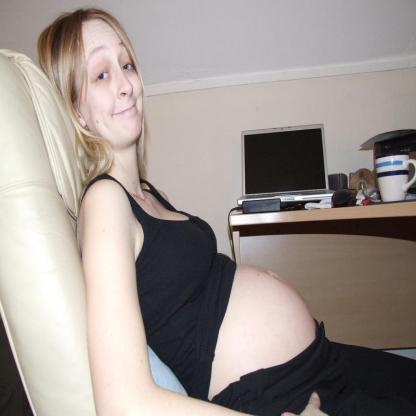board: (237, 123, 337, 206)
